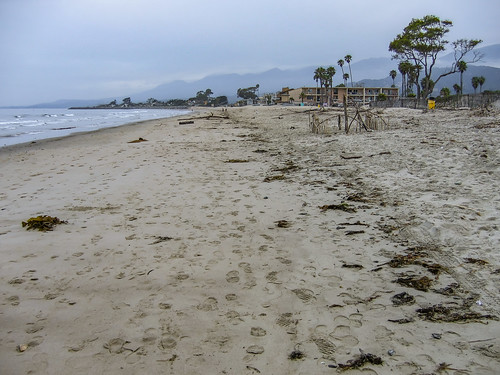beach: (23, 117, 500, 375)
building: (288, 81, 401, 108)
sea: (1, 109, 175, 144)
sky: (1, 1, 394, 92)
tree: (390, 14, 471, 103)
